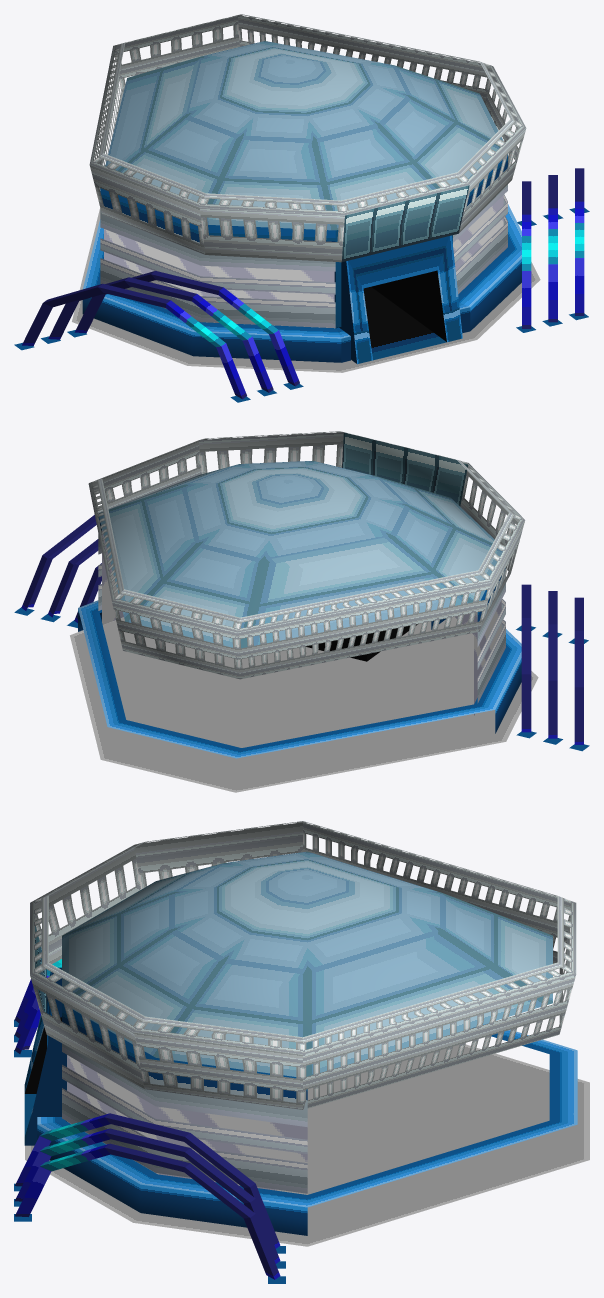
The picture shows the model from 3 angles, top to bottom: view 1: azimuth 30°, elevation 25°; view 2: azimuth 150°, elevation 25°; view 3: azimuth 270°, elevation 25°; orthographic projection. The views are drawn at different scales.
Visible parts, largest first — view 1: polygon5, polygon0, polygon1, polygon6, polygon2, polygon4, polygon3; view 2: polygon5, polygon3, polygon1, polygon0, polygon6, polygon2, polygon4; view 3: polygon5, polygon1, polygon3, polygon0, polygon6, polygon4.
Boxes of the visible parts, <box> form: polygon5: <box>105,41,503,230</box>; polygon0: <box>14,154,589,402</box>; polygon1: <box>89,14,526,262</box>; polygon6: <box>22,168,584,399</box>; polygon2: <box>341,185,469,261</box>; polygon4: <box>104,195,503,328</box>; polygon3: <box>72,208,540,372</box>; polygon5: <box>98,461,502,648</box>; polygon3: <box>70,617,538,792</box>; polygon1: <box>88,431,525,679</box>; polygon0: <box>14,517,589,758</box>; polygon6: <box>21,515,583,744</box>; polygon2: <box>342,432,468,506</box>; polygon4: <box>102,529,501,715</box>; polygon5: <box>62,851,552,1076</box>; polygon1: <box>30,821,576,1109</box>; polygon3: <box>25,1044,589,1246</box>; polygon0: <box>14,967,577,1283</box>; polygon6: <box>14,959,280,1279</box>; polygon4: <box>67,1055,307,1194</box>.
Size of the model in its own units: 10.23 by 3.58 by 7.62.
